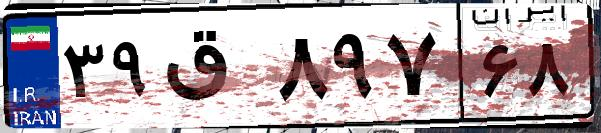3: (57, 26, 110, 100)
6: (475, 38, 525, 113)
7: (385, 28, 445, 110)
8: (270, 28, 330, 110), (525, 38, 570, 115)
9: (330, 28, 385, 110), (110, 28, 158, 98)
ق: (158, 20, 270, 120)
